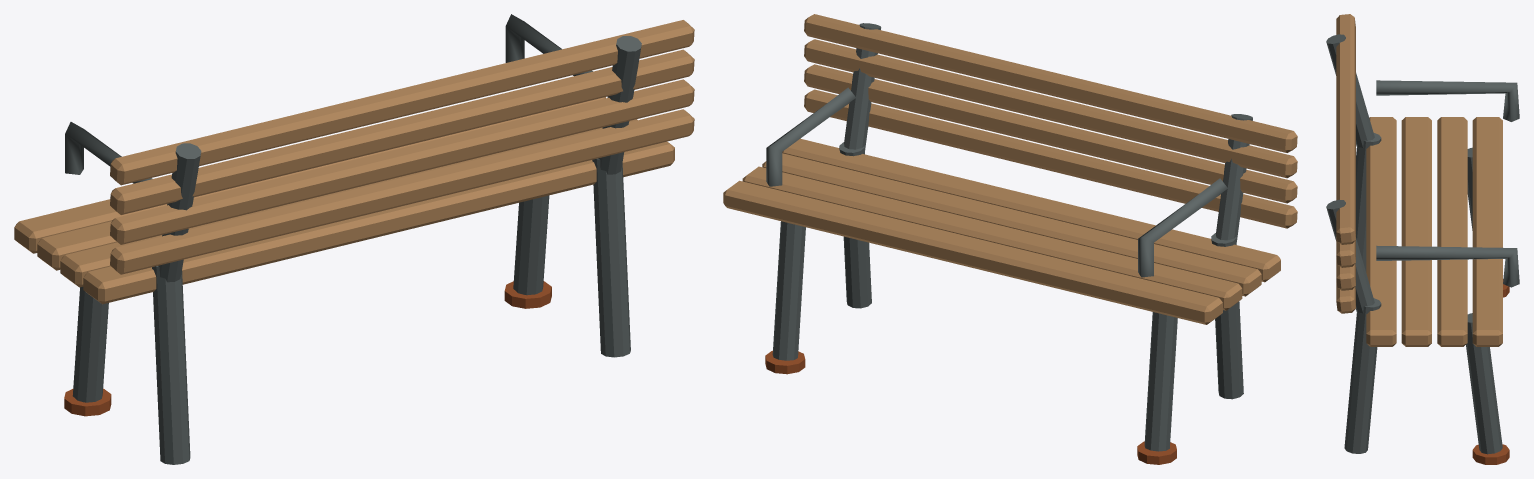
File: bench.glb
The picture shows the model from 3 angles, left to right: view 1: azimuth 30°, elevation 25°; view 2: azimuth 150°, elevation 25°; view 3: azimuth 270°, elevation 25°; orthographic projection. The views are drawn at different scales.
Parts seen in each view (by area): view 1: bench; view 2: bench; view 3: bench.
Part boxes in pixels (x1,y1,x2,y2): bench: (14, 14, 694, 464); bench: (723, 14, 1297, 464); bench: (1326, 14, 1519, 464).
Bounding box in the file's own units: 1.52 × 0.8351 × 0.574.
